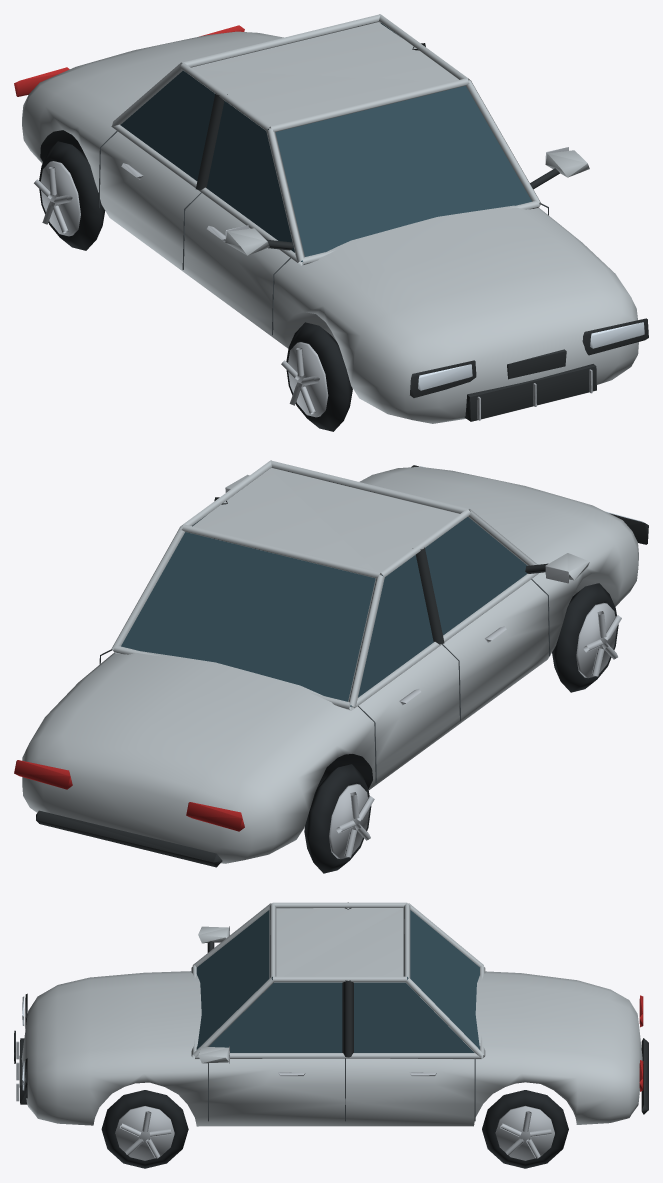
File: vehicle-sedan-lod2.glb
3 renders of one model, top to bottom at view 1: azimuth 30°, elevation 25°; view 2: azimuth 150°, elevation 25°; view 3: azimuth 270°, elevation 25°, orthographic. The views are drawn at different scales.
Visible parts, largest first — view 1: vehicle-sedan_MATERIAL_BATCH; view 2: vehicle-sedan_MATERIAL_BATCH; view 3: vehicle-sedan_MATERIAL_BATCH.
Part boxes in pixels (left/top/right/bottom): vehicle-sedan_MATERIAL_BATCH: left=14, top=14, right=648, bottom=431; vehicle-sedan_MATERIAL_BATCH: left=14, top=460, right=648, bottom=873; vehicle-sedan_MATERIAL_BATCH: left=14, top=902, right=648, bottom=1168.
Bounding box in the file's own units: 2.31 × 1.48 × 4.74.
